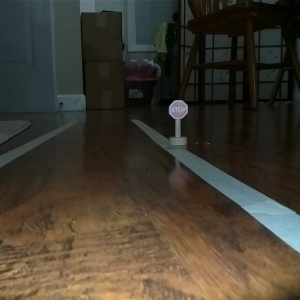stop sign: (166, 98, 190, 147)
